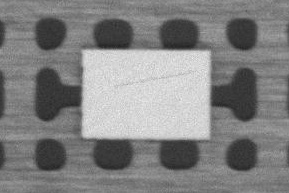DIE_CRACK: (171, 47, 289, 57)
